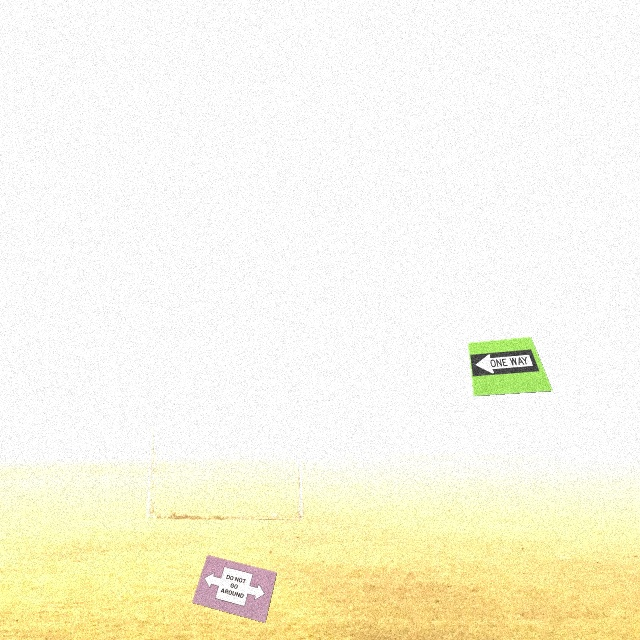DO_NOT_GO_AROUND: (199, 560, 269, 612)
ONE_WAY_ left: (470, 349, 539, 377)
